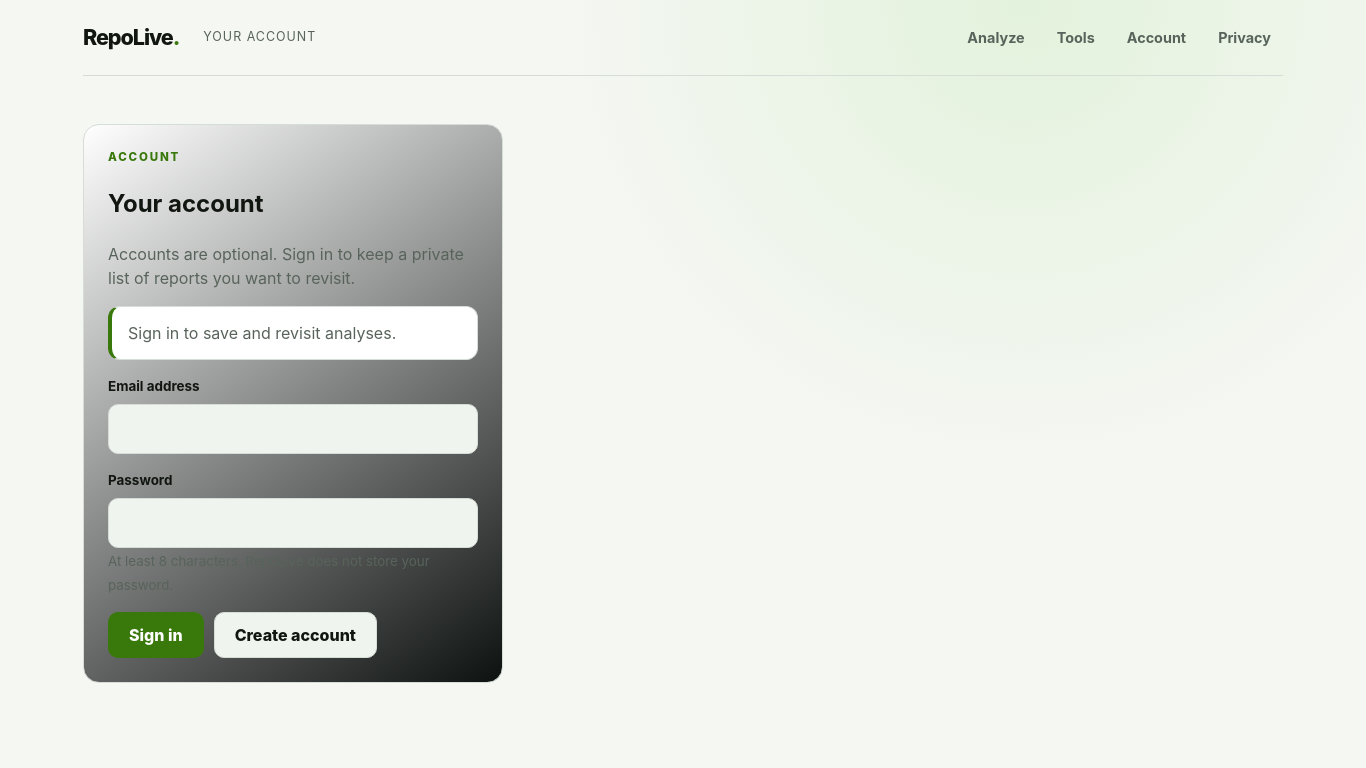
it: account authentication › shows a safe invalid-login message
In the field labelled "Email address": (293, 429) [108,404,478,454], type "person@example.com"
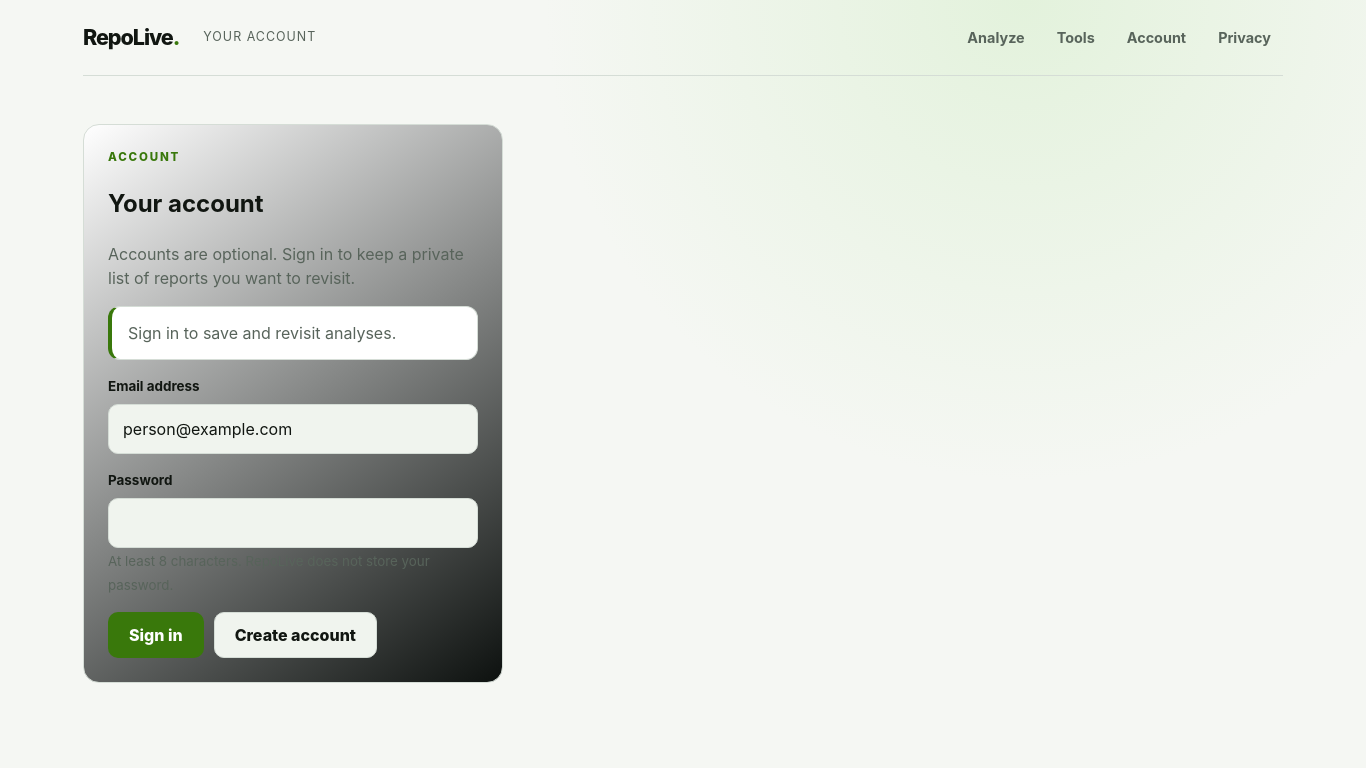
In the password field labelled "Password": (293, 523) [108,498,478,548], type "incorrect-password"
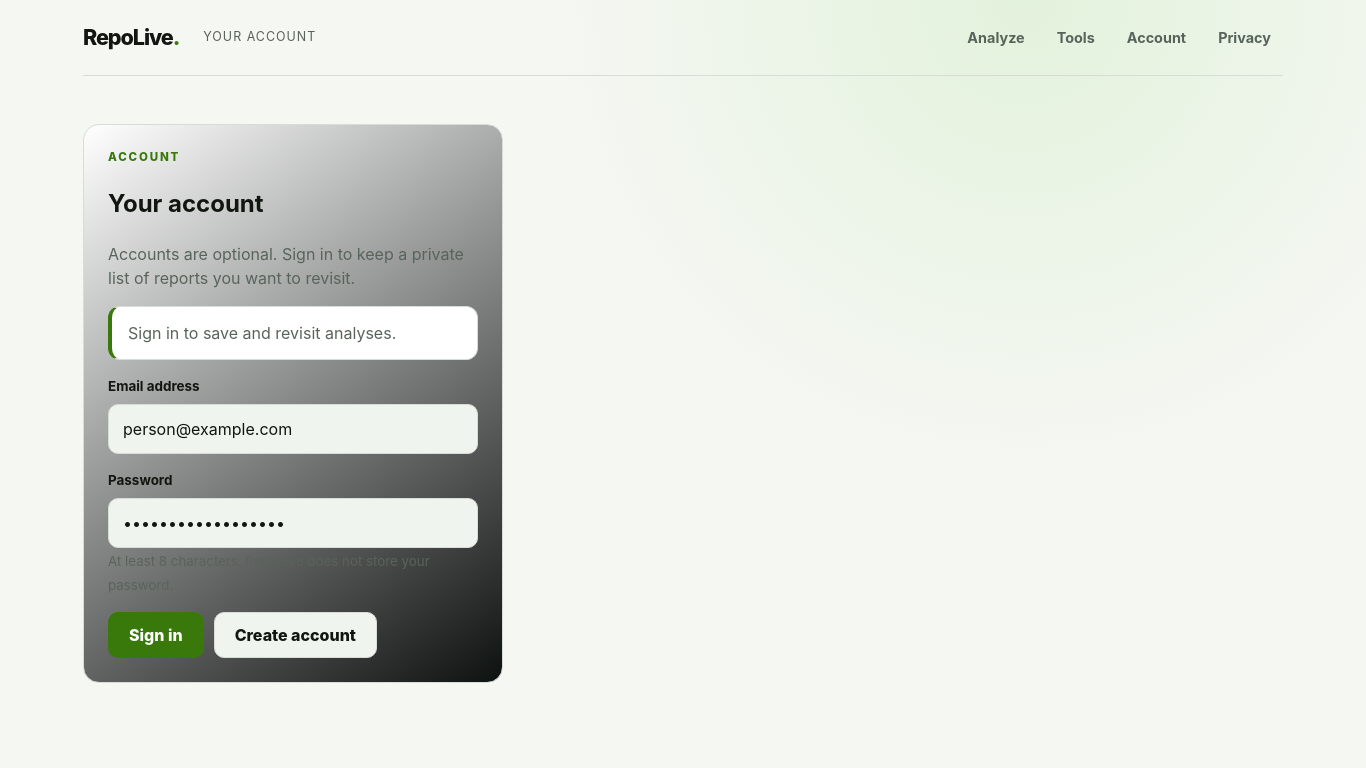
Click the button "Sign in": (156, 635) [108,612,204,658]
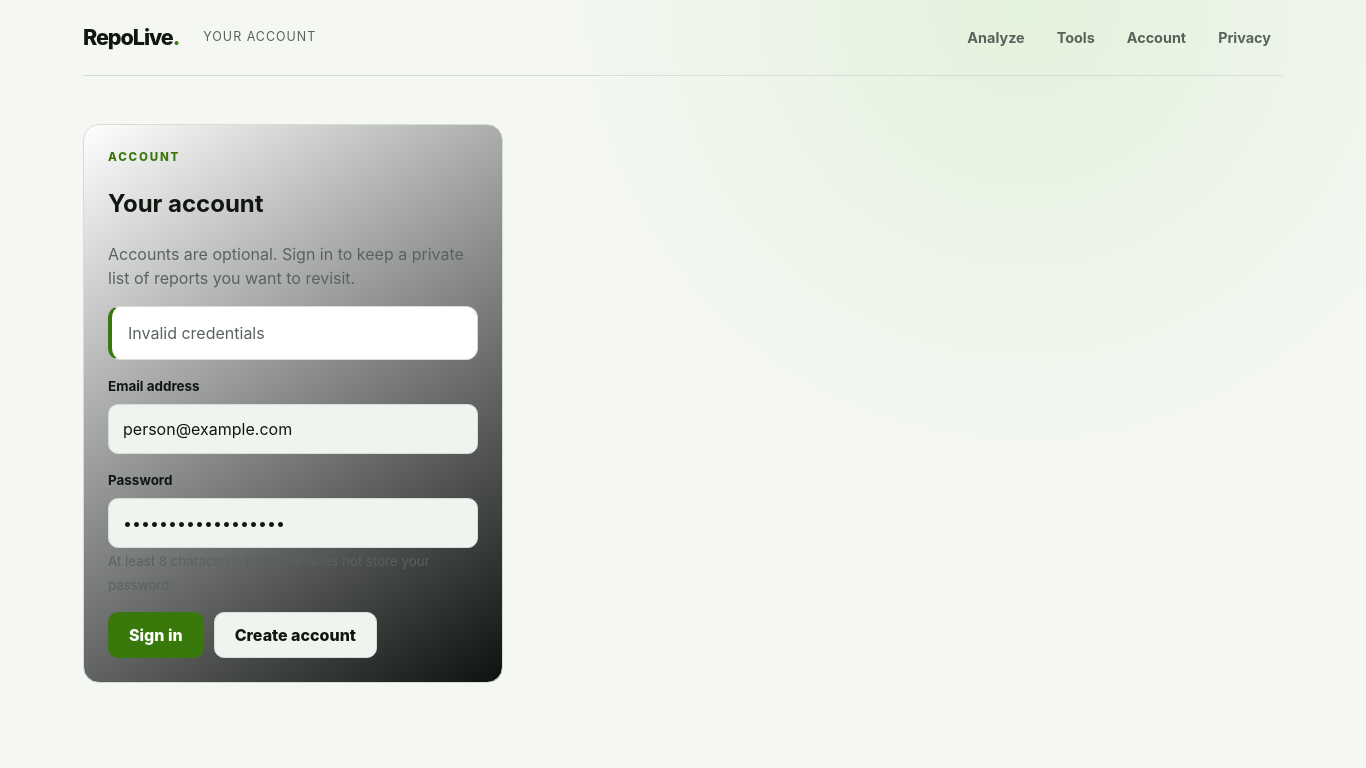
Expected: the text "Invalid credentials" is shown, [108,306,478,360]
